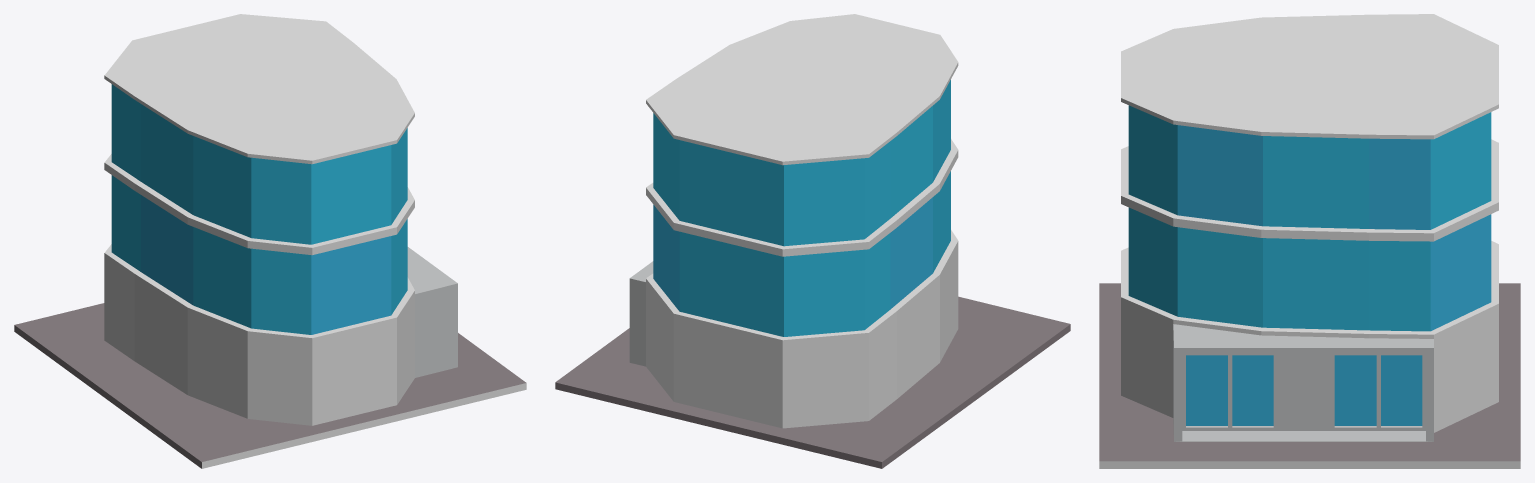
The model's file is building_1x10_g.glb.
3 views of the same model, side by side, from view 1: azimuth 30°, elevation 25°; view 2: azimuth 150°, elevation 25°; view 3: azimuth 270°, elevation 25° (orthographic). The views are drawn at different scales.
Visible parts, largest first — view 1: Cube; view 2: Cube; view 3: Cube.
Part boxes in pixels (x1,y1,x2,y2): Cube: [14, 14, 526, 468]; Cube: [555, 14, 1070, 468]; Cube: [1099, 14, 1520, 468].
Bounding box in the file's own units: 2 × 1.6 × 2.
